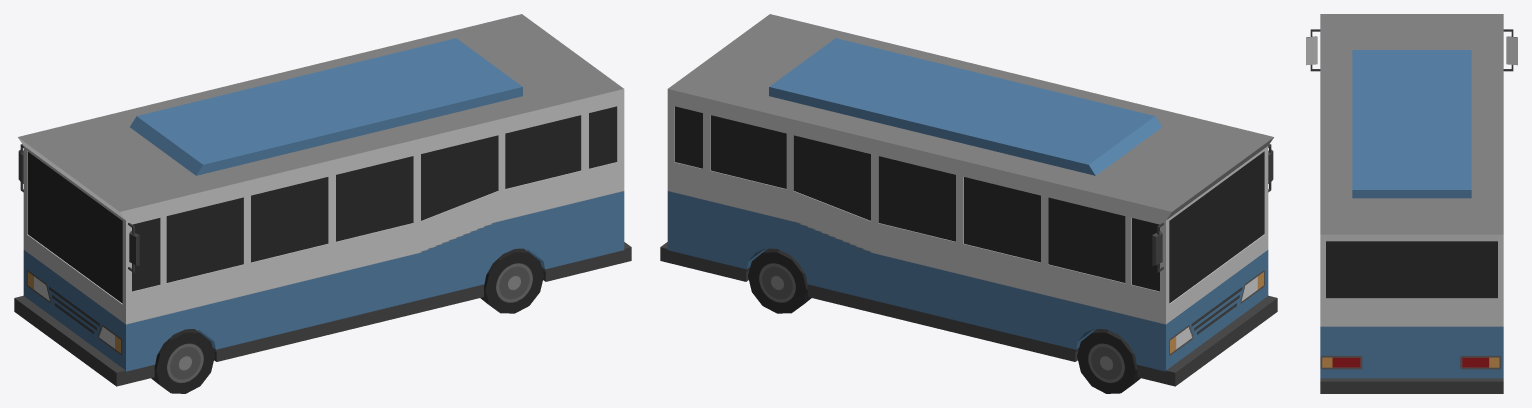
The model's file is bus.glb.
3 renders of one model, left to right at view 1: azimuth 30°, elevation 25°; view 2: azimuth 150°, elevation 25°; view 3: azimuth 270°, elevation 25°, orthographic. The views are drawn at different scales.
Parts seen in each view (by area): view 1: Body, Wheel_FL, Wheel_RL; view 2: Body, Wheel_FR, Wheel_RR; view 3: Body.
Part boxes in pixels (x1,y1,x2,y2): Body: (14, 14, 631, 386); Wheel_FL: (151, 329, 214, 393); Wheel_RL: (480, 248, 543, 313); Body: (660, 14, 1277, 386); Wheel_FR: (1077, 329, 1140, 393); Wheel_RR: (748, 248, 811, 313); Body: (1306, 14, 1517, 393).
Size of the model in its own units: 9.3 by 3.58 by 3.69.
1 material, 1 textured.
